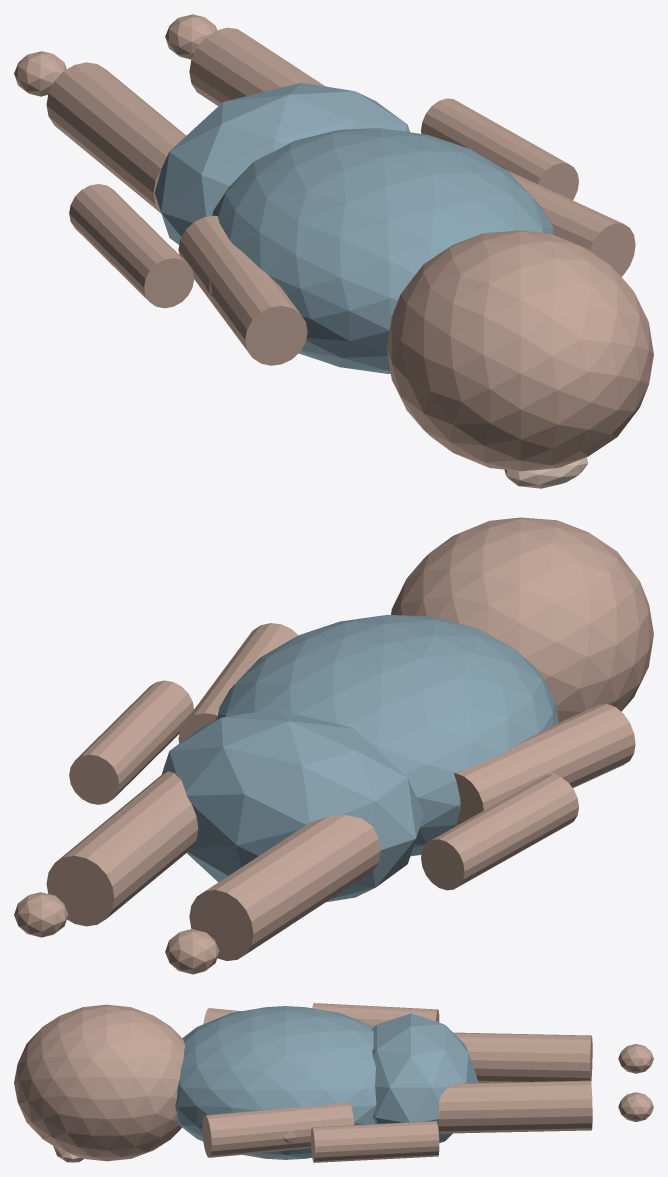
File: newborn-medium.glb
The picture shows the model from 3 angles, top to bottom: view 1: azimuth 30°, elevation 25°; view 2: azimuth 150°, elevation 25°; view 3: azimuth 270°, elevation 25°; orthographic projection. The views are drawn at different scales.
Parts seen in each view (by area): view 1: head, torso, pelvis, left_thigh, left_upper_arm, left_forearm, right_forearm, right_thigh, right_upper_arm, left_leg, right_leg, fontanelle_region_proxy; view 2: torso, head, pelvis, left_thigh, right_thigh, left_upper_arm, left_forearm, right_forearm, right_upper_arm, left_leg, right_leg; view 3: head, torso, pelvis, right_thigh, left_thigh, right_upper_arm, right_forearm, left_forearm, left_leg, right_leg, left_upper_arm.
Boxes of the visible parts, box(x1,y1,x2,y2) form: head: box(386, 230, 653, 471); torso: box(212, 128, 554, 373); pelvis: box(154, 82, 409, 244); left_thigh: box(46, 62, 185, 213); left_upper_arm: box(178, 216, 307, 365); left_forearm: box(69, 184, 194, 308); right_forearm: box(421, 98, 578, 200); right_thigh: box(189, 27, 324, 105); right_upper_arm: box(507, 170, 635, 276); left_leg: box(14, 51, 66, 96); right_leg: box(165, 14, 216, 59); fontanelle_region_proxy: box(504, 457, 587, 488); torso: box(215, 614, 558, 856); head: box(391, 517, 653, 722); pelvis: box(161, 709, 423, 902); left_thigh: box(189, 815, 380, 960); right_thigh: box(46, 771, 198, 926); left_upper_arm: box(454, 704, 635, 825); left_forearm: box(421, 774, 578, 890); right_forearm: box(69, 680, 193, 804); right_upper_arm: box(178, 623, 298, 743); left_leg: box(165, 929, 219, 974); right_leg: box(14, 892, 68, 937); head: box(14, 1004, 185, 1161); torso: box(175, 1006, 376, 1159); pelvis: box(372, 1013, 478, 1142); right_thigh: box(438, 1080, 592, 1133); left_thigh: box(453, 1032, 592, 1082); right_upper_arm: box(202, 1102, 354, 1157); right_forearm: box(311, 1121, 439, 1162); left_forearm: box(312, 1003, 439, 1026); left_leg: box(618, 1044, 653, 1073); right_leg: box(618, 1092, 653, 1121); left_upper_arm: box(203, 1008, 240, 1023).
Bounding box in the file's own units: 1.84 × 0.89 × 3.58.
